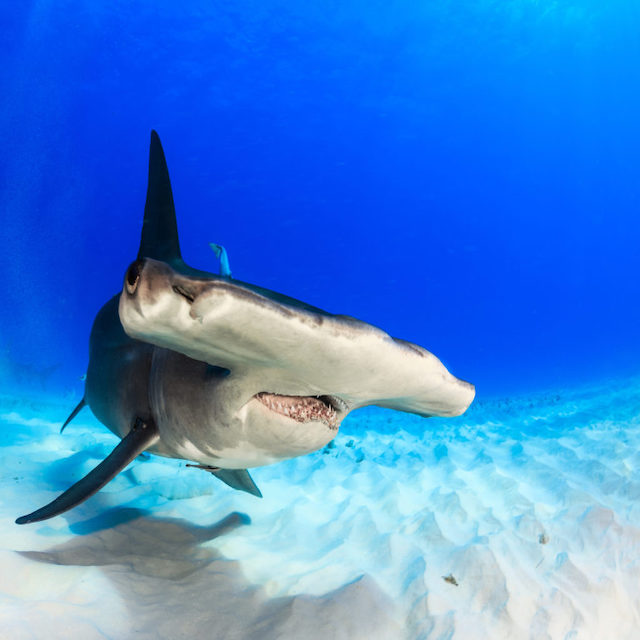hammerhead: (89, 218, 485, 467)
